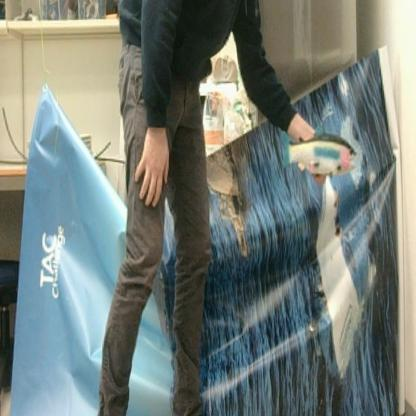rubberfish: (279, 124, 359, 178)
